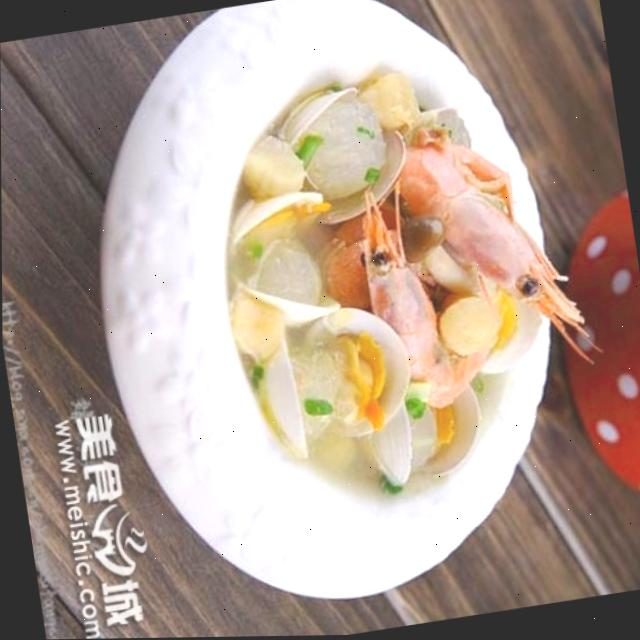汤锅炖物: (199, 58, 592, 515)
